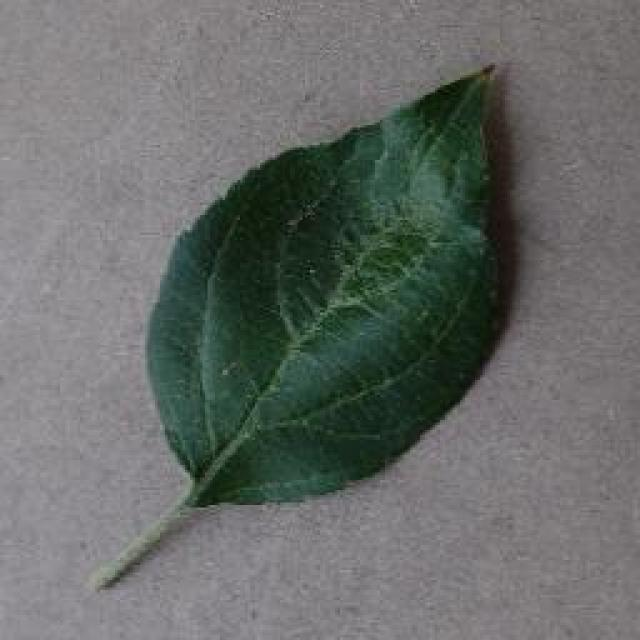apple healthy: (90, 60, 510, 590)
